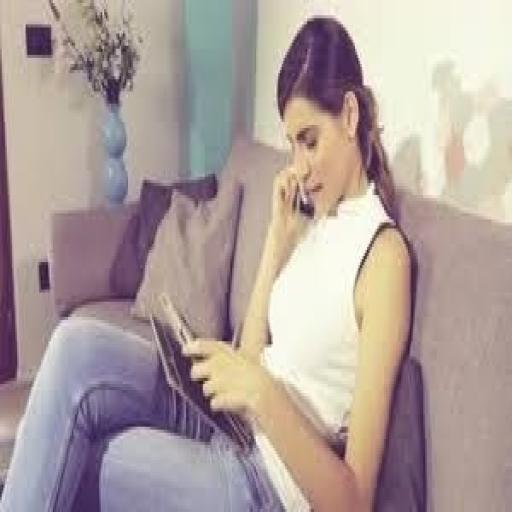calling: (2, 12, 418, 509)
